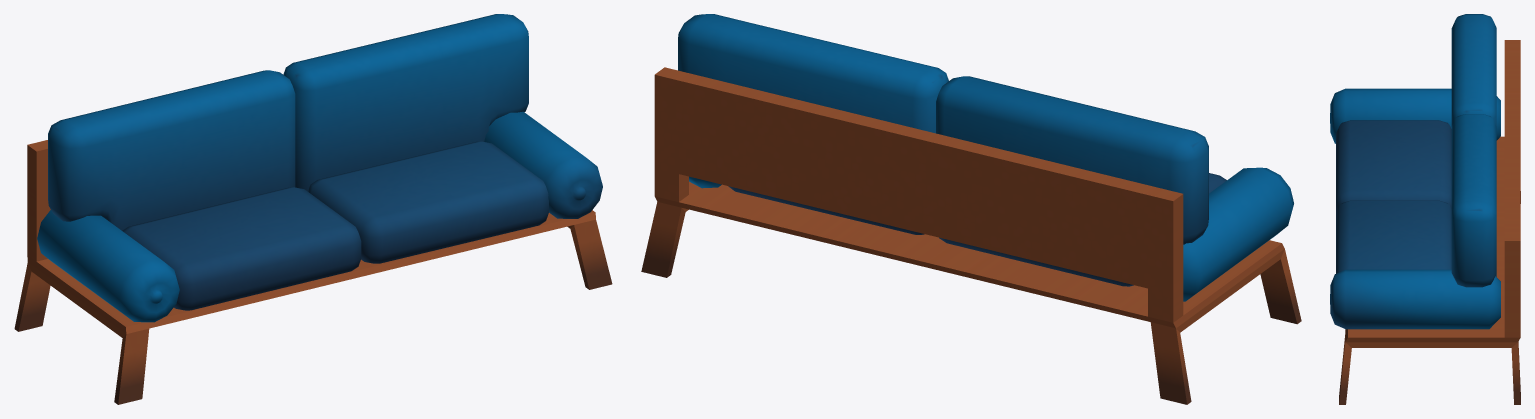
Rendered from furniture_sofa0.fbx.
3 views of the same model, side by side, from view 1: azimuth 30°, elevation 25°; view 2: azimuth 150°, elevation 25°; view 3: azimuth 270°, elevation 25° (orthographic). The views are drawn at different scales.
Parts seen in each view (by area): view 1: furniture_sofa0; view 2: furniture_sofa0; view 3: furniture_sofa0.
Boxes of the visible parts, x1=… form: furniture_sofa0: x1=14, y1=14, x2=612, y2=404; furniture_sofa0: x1=641, y1=14, x2=1301, y2=404; furniture_sofa0: x1=1330, y1=14, x2=1520, y2=404.
Bounding box in the file's own units: 2.61 × 0.9948 × 1.1.
